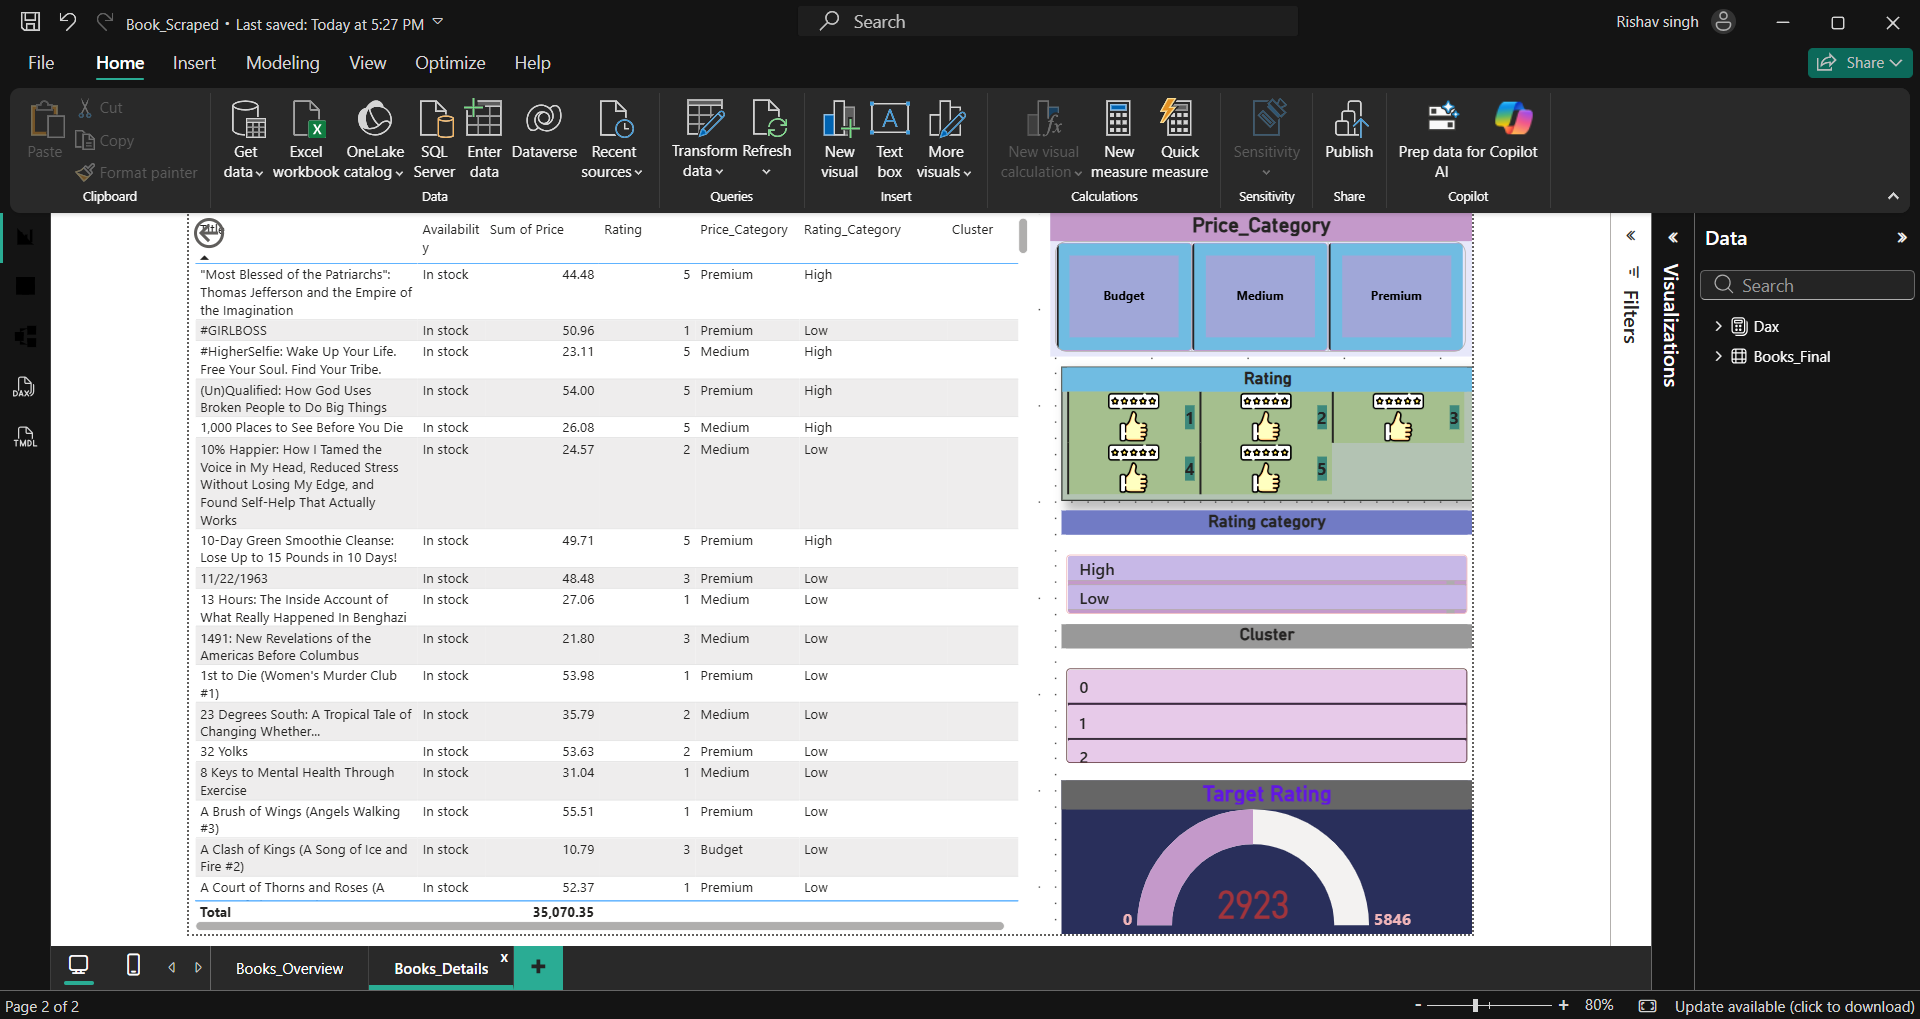

Layout of this report page (visuals, bound fields, positions):
{"tool":"powerbi","page":{"name":"Books_Details","canvas":[1280,720],"ordinal":1},"visuals":[{"type":"advancedSlicerVisual","fields":{"Values":["Books_Final.Rating"]},"box":[870.2,153.4,410.2,133.4],"z":0},{"type":"advancedSlicerVisual","fields":{"Values":["Books_Final.Price_Category"]},"box":[859,0,421.4,143.4],"z":1000},{"type":"tableEx","fields":{"Values":["Books_Final.Title","Books_Final.Availability","Sum(Books_Final.Price)","Books_Final.Rating","Books_Final.Price_Category","Books_Final.Rating_Category","Books_Final.Cluster"]},"box":[0,0,841.6,720.6],"z":2000},{"type":"cardVisual","title":"Rating category ","fields":{"Rows":["Books_Final.Rating_Category"]},"box":[870.2,296.7,410.2,128.4],"z":3000},{"type":"cardVisual","title":"Cluster","fields":{"Rows":["Books_Final.Cluster"]},"box":[870.2,410.2,410.2,164.6],"z":5000},{"type":"gauge","title":"Target Rating","fields":{"Y":["Sum(Books_Final.Rating)"]},"box":[870.2,566,410.2,154.6],"z":6000},{"type":"actionButton","box":[0,0,100,40],"z":7000}]}

Visuals, with their boxes on the page's 1280x720 design canvas (x1, y1, x2, y2). These are canvas units, not pixel positions in the 1920x1019 screenshot, which may show the page scaled, cropped or inside an application window:
advancedSlicerVisual - Books_Final.Rating: {"x1": 870, "y1": 153, "x2": 1280, "y2": 287}
advancedSlicerVisual - Books_Final.Price_Category: {"x1": 859, "y1": 0, "x2": 1280, "y2": 143}
tableEx - Books_Final.Title x Books_Final.Availability: {"x1": 0, "y1": 0, "x2": 842, "y2": 721}
"Rating category " cardVisual: {"x1": 870, "y1": 297, "x2": 1280, "y2": 425}
"Cluster" cardVisual: {"x1": 870, "y1": 410, "x2": 1280, "y2": 575}
"Target Rating" gauge: {"x1": 870, "y1": 566, "x2": 1280, "y2": 721}
actionButton: {"x1": 0, "y1": 0, "x2": 100, "y2": 40}
